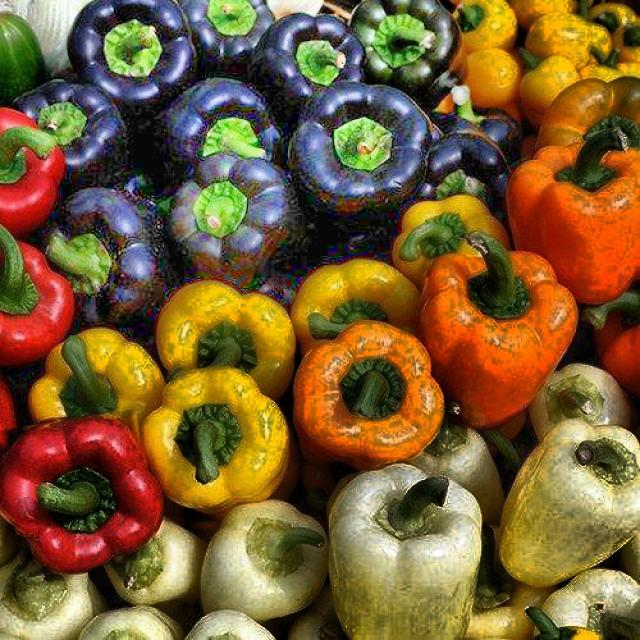capsicum: (158, 308, 482, 473)
red capsicum: (4, 414, 154, 574)
